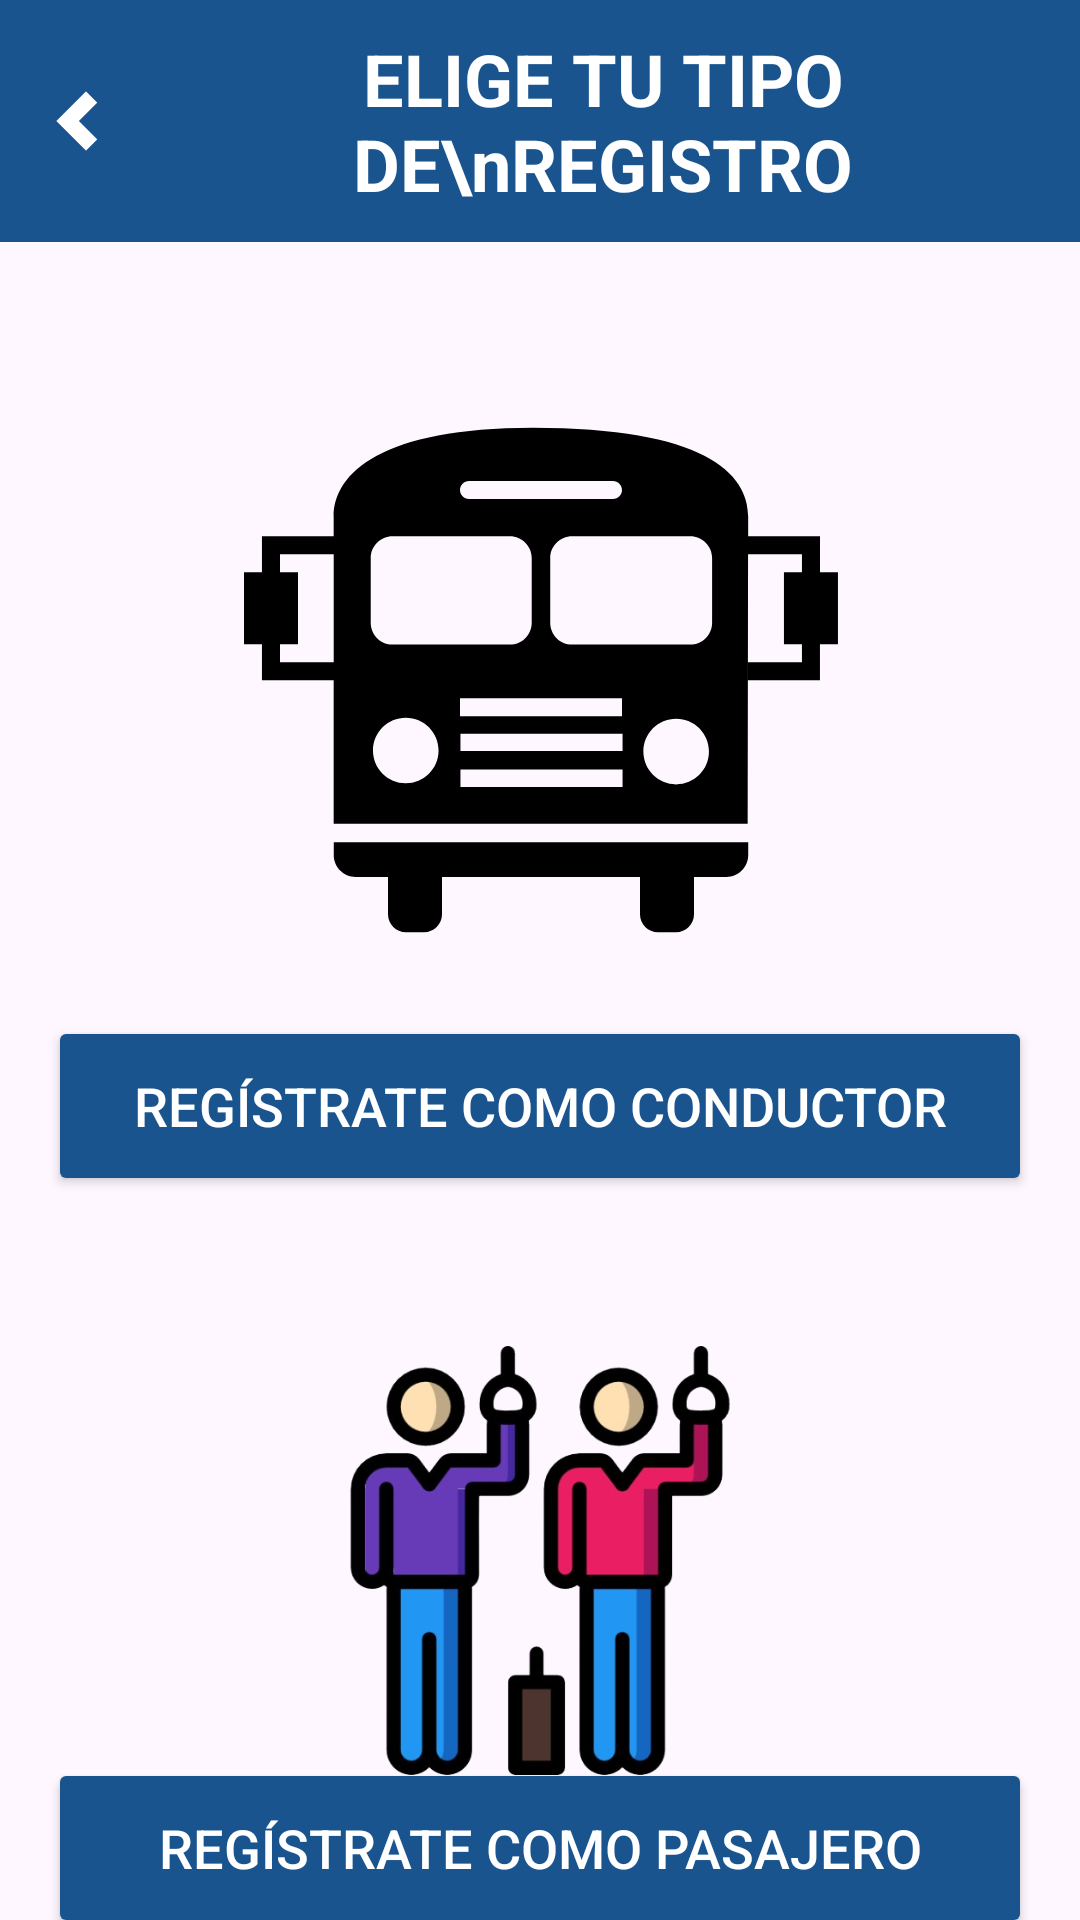

Locate icon controls on the screen. Image size 1080x1920, boxes as (x1, y1, x2, y2).
atras: (56, 91, 97, 151)
